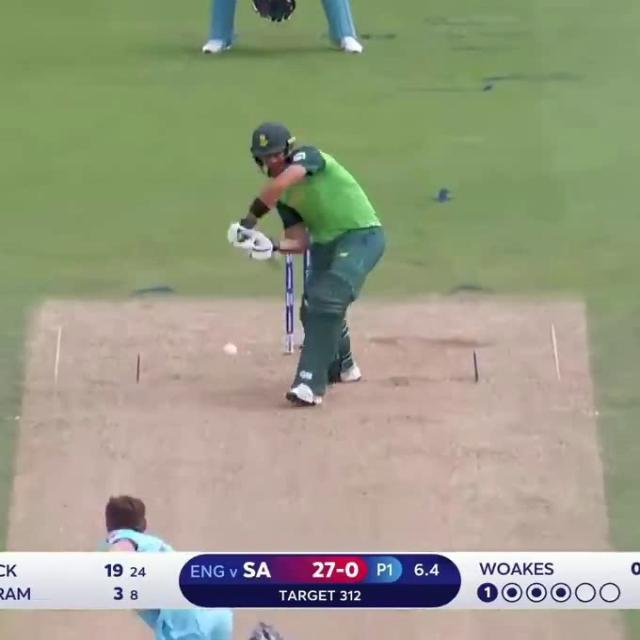bat: (272, 252, 284, 268)
